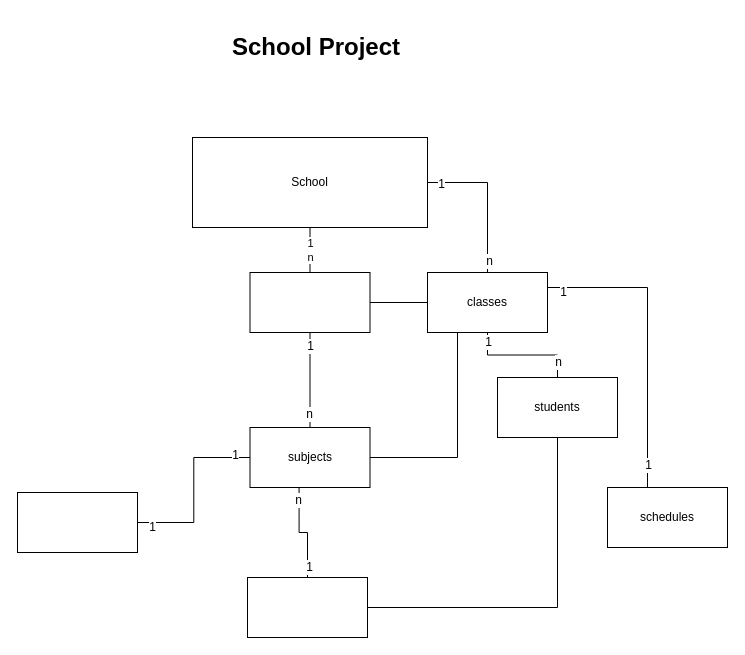
Image size: 745x655. Some labels were removed from this diagram. Each missing label, with the centre of its shape:
"grades" belongs at (x=307, y=607).
"homework" belongs at (x=77, y=522).
"teachers" belongs at (x=309, y=302).
